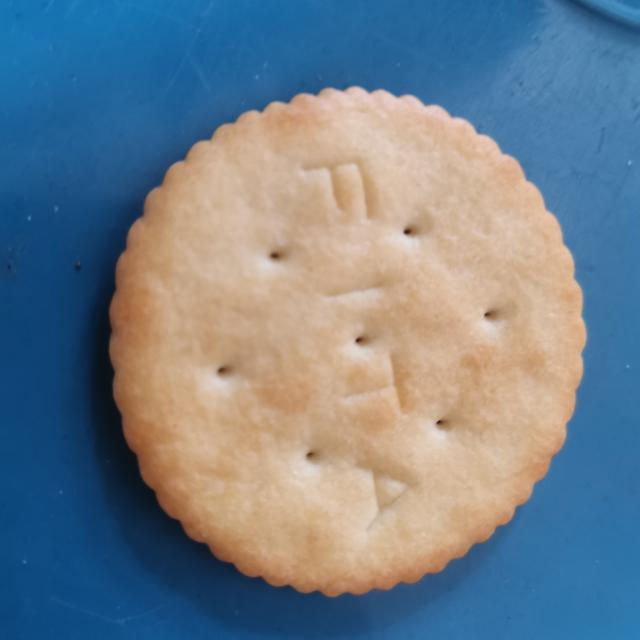Intact: (99, 77, 599, 605)
